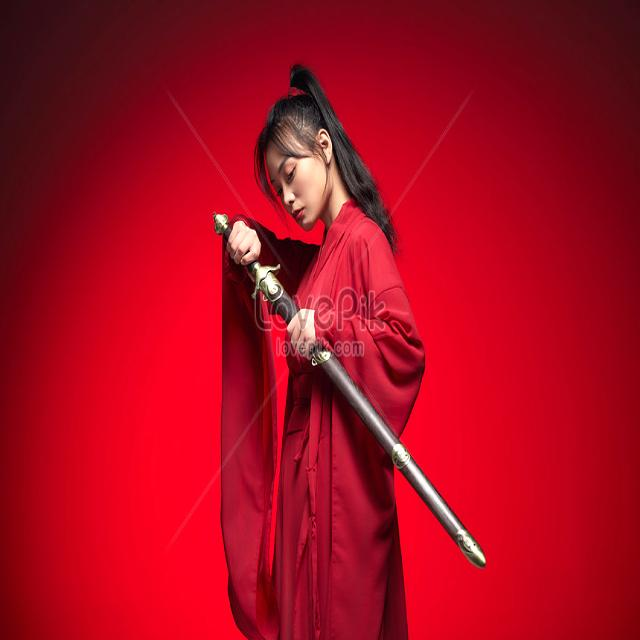long sword: (212, 210, 489, 572)
